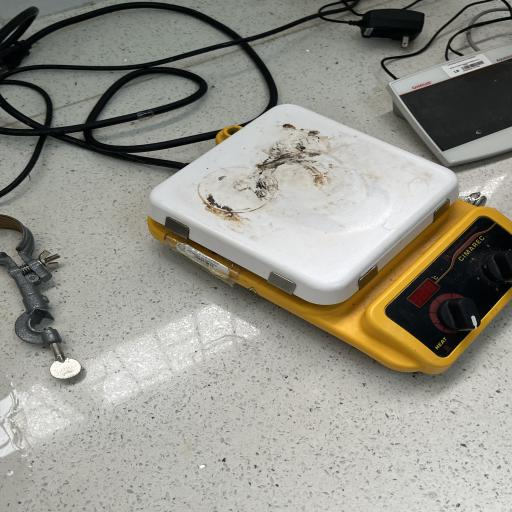Plancha_Agitacion_Cimarec: (128, 94, 512, 390)
